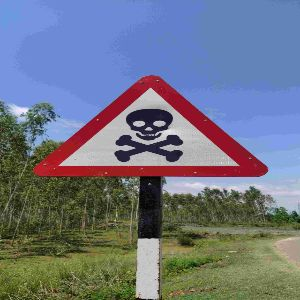Accident prone area: (22, 70, 279, 192)
